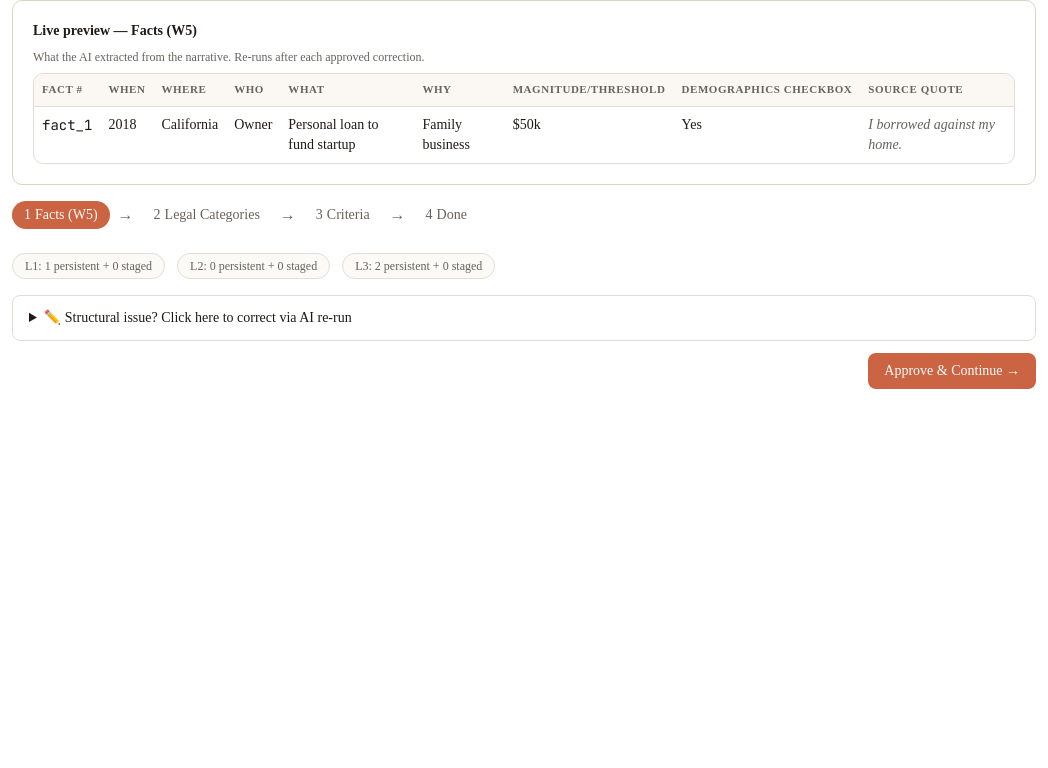
Test: CucpStepper › Done step still shows the L3 criteria table (regression check)
Expected: the text "L1: 1 persistent + 0 staged" is shown, [12,253,165,279]
Click the button "Approve & Continue →" at (952, 371), box [868,353,1036,389]
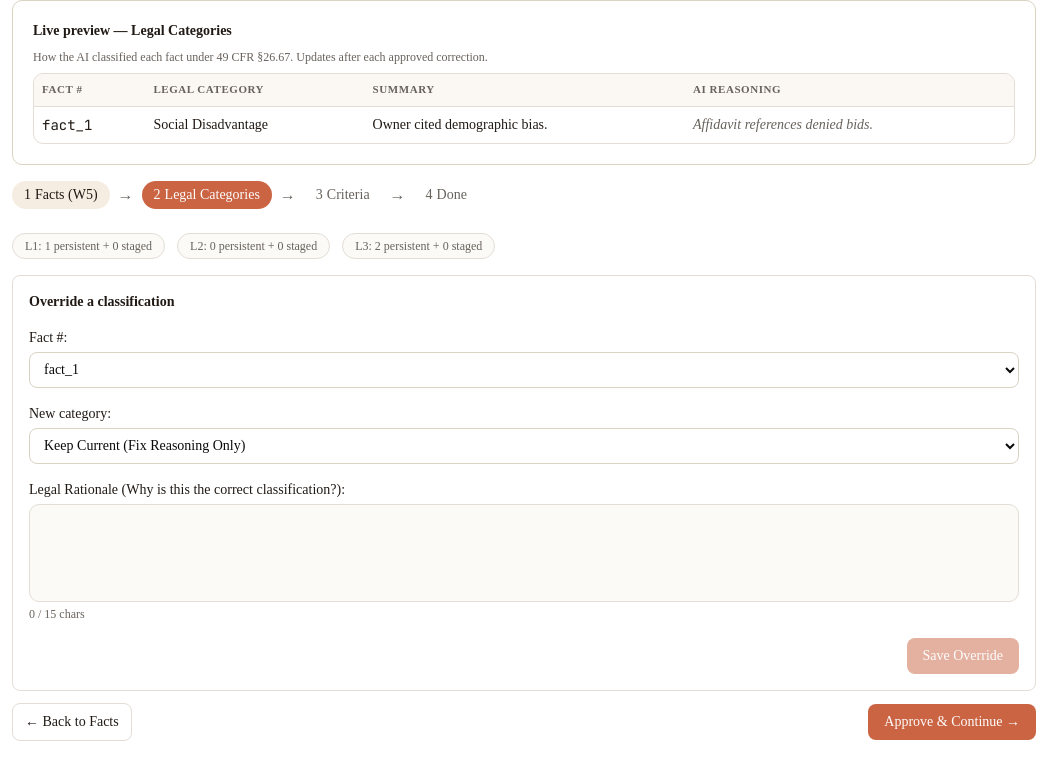
Expected: the column heading "Legal Category" is shown, [145,74,365,106]
Click the button "Approve & Continue →" at (952, 722), box [868,704,1036,740]
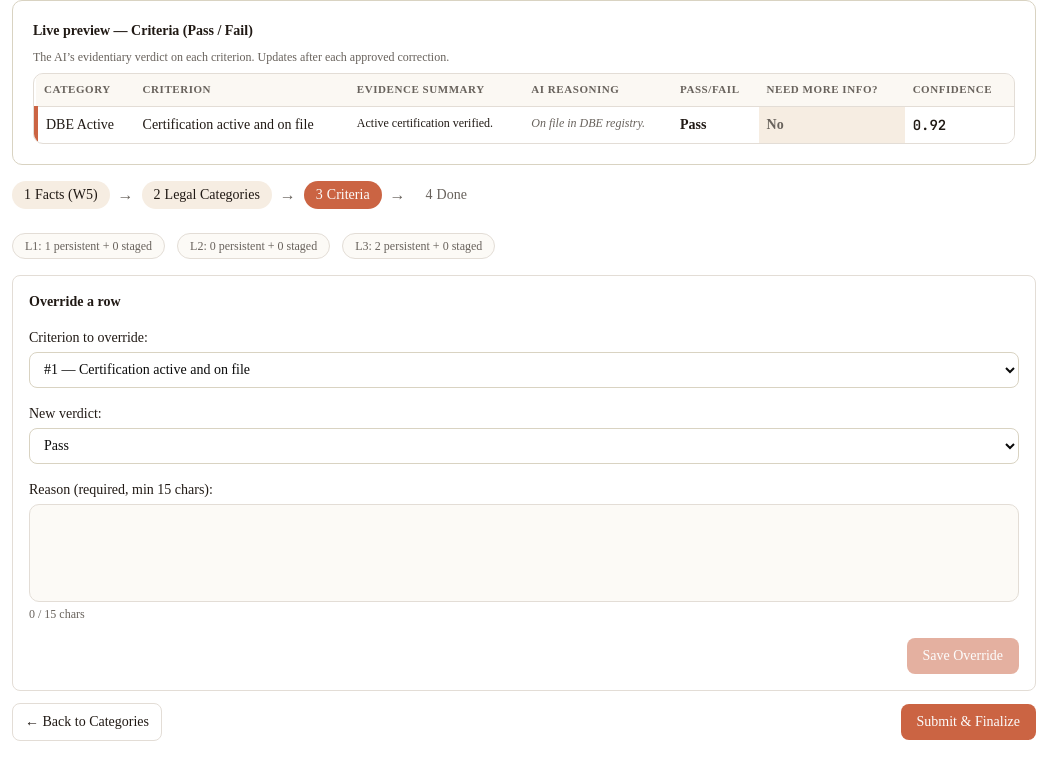
Expected: the column heading "Pass/Fail" is shown, [672,74,758,106]
Click the button "Submit & Finalize" at (968, 722), box [900,704,1036,740]
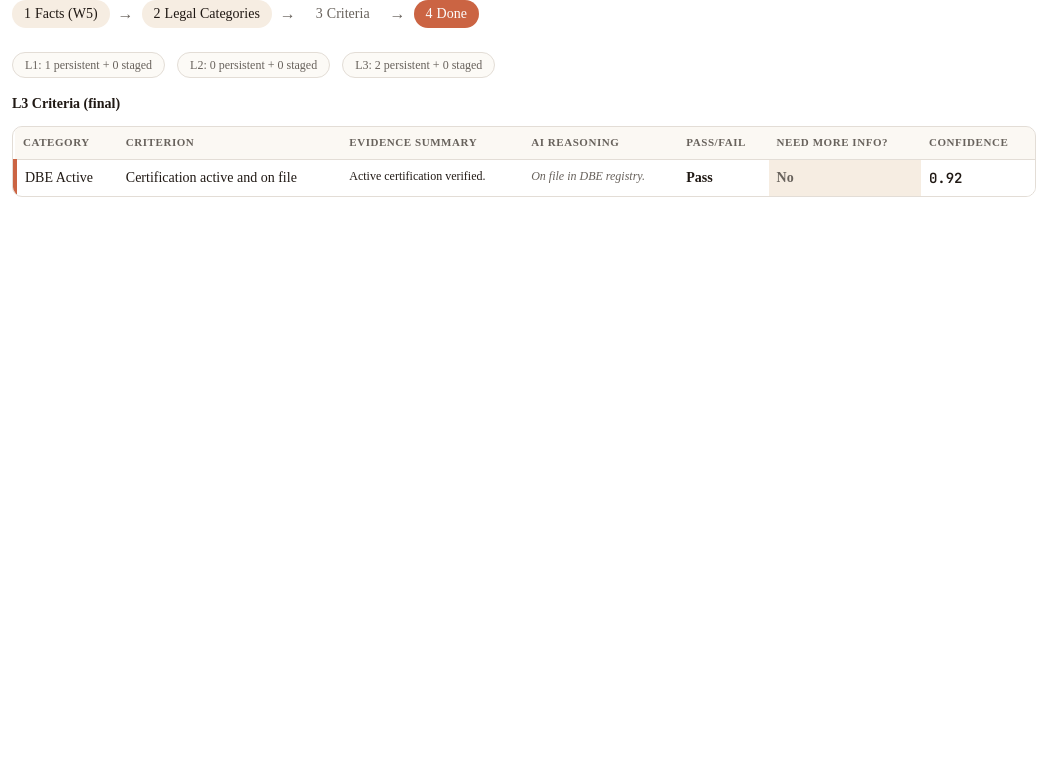
Expected: the column heading "Pass/Fail" is shown, [678,127,769,159]
Expected: the heading "L3 Criteria (final)" is shown, [12,96,120,111]
